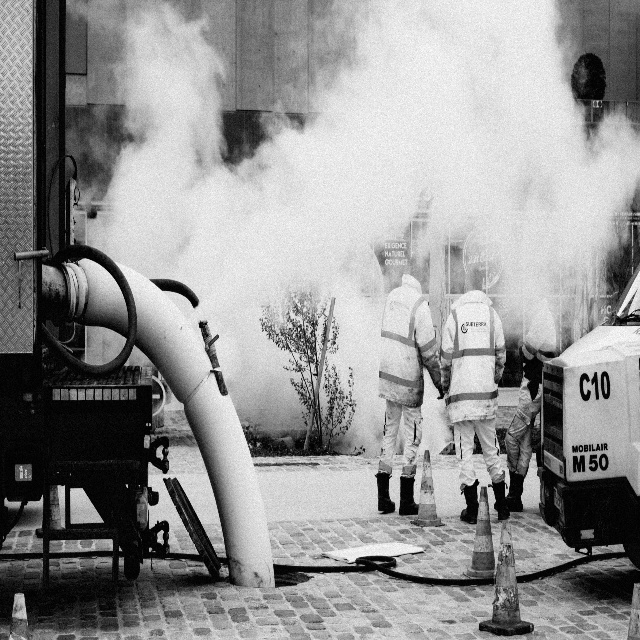Guantes: (517, 344, 529, 365), (437, 385, 444, 400)
